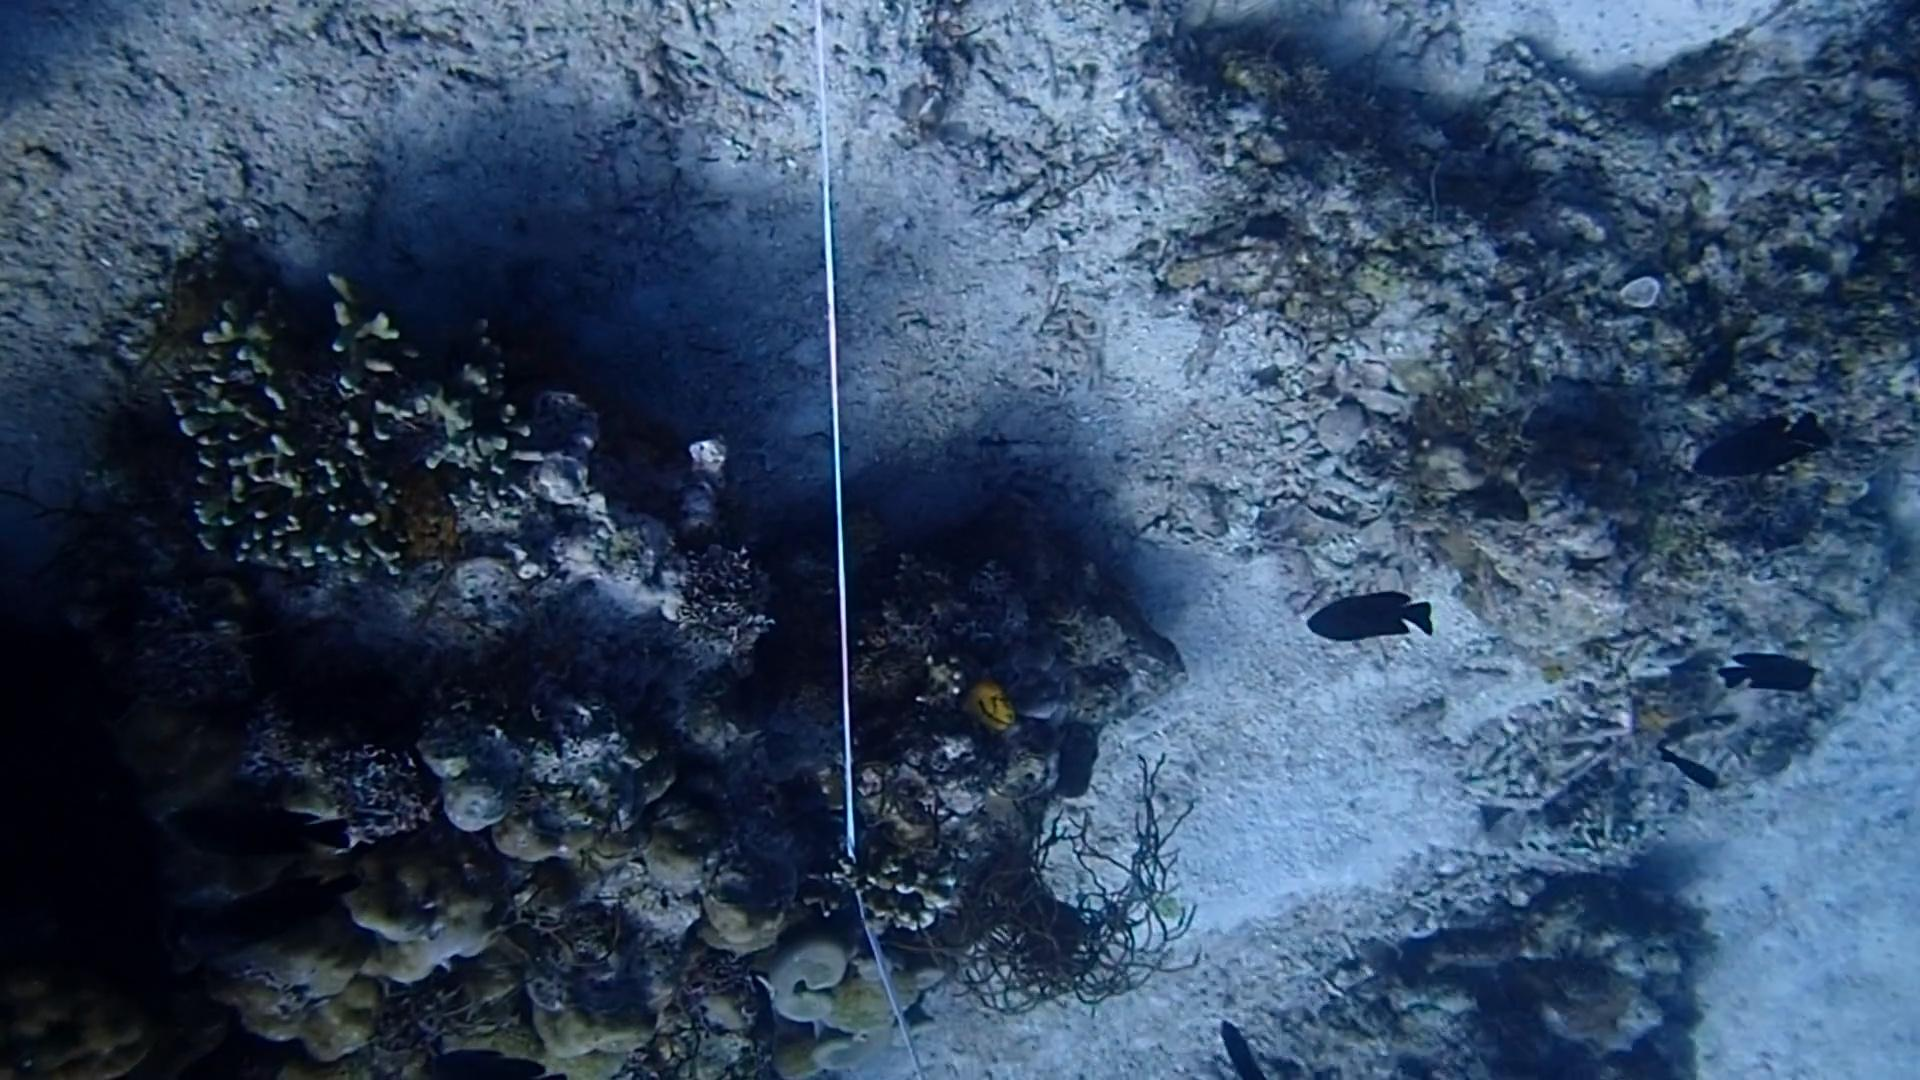Dark Fish: (1687, 411, 1826, 493), (1295, 580, 1444, 646), (1665, 318, 1762, 413), (1714, 642, 1817, 709), (1656, 738, 1729, 810)
